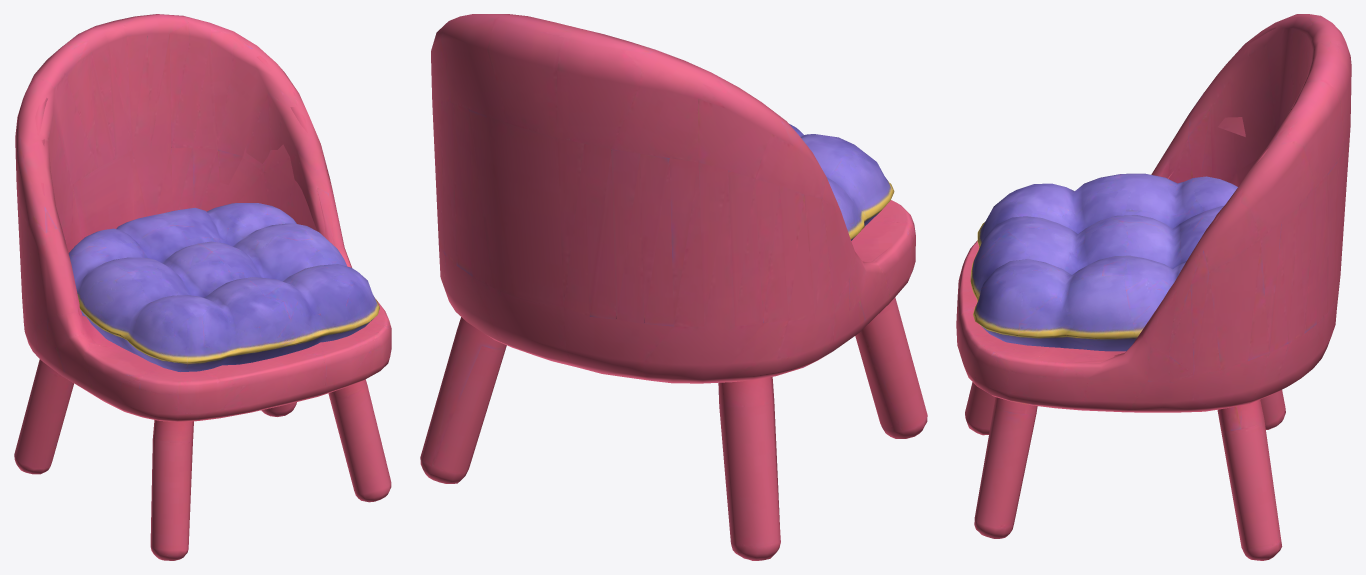
Rendered from cafe-chair.glb.
3 views of the same model, side by side, from view 1: azimuth 30°, elevation 25°; view 2: azimuth 150°, elevation 25°; view 3: azimuth 270°, elevation 25° (orthographic). The views are drawn at different scales.
Visible parts, largest first — view 1: geometry_0; view 2: geometry_0; view 3: geometry_0.
Part boxes in pixels (<box>): geometry_0: <box>14,14,391,560</box>; geometry_0: <box>420,14,927,560</box>; geometry_0: <box>956,14,1351,560</box>.
Size of the model in its own units: 0.7685 by 1 by 0.8038.
1 material, 1 textured.
